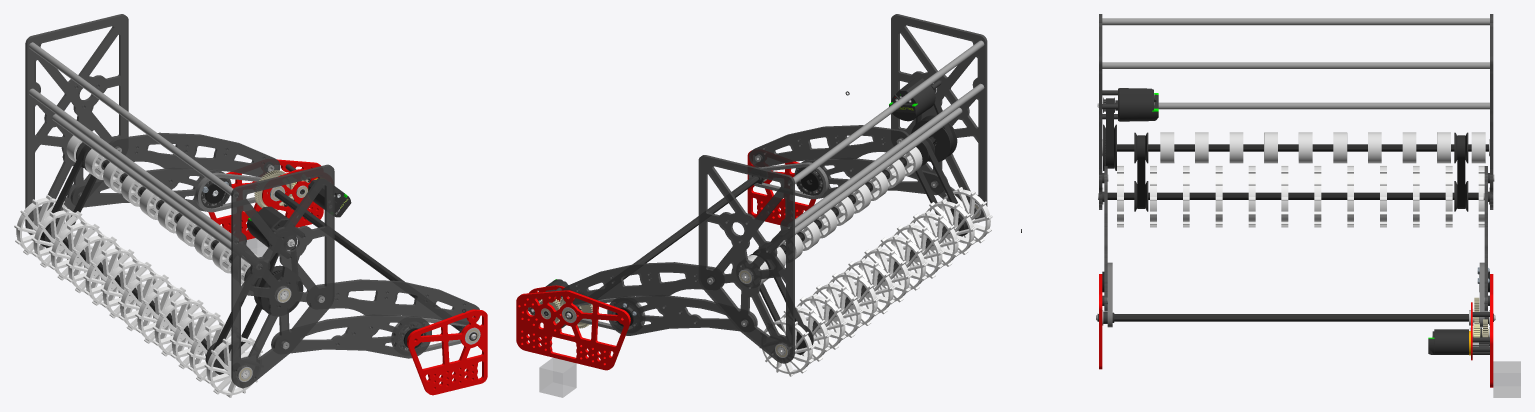
3 views of the same model, side by side, from view 1: azimuth 30°, elevation 25°; view 2: azimuth 150°, elevation 25°; view 3: azimuth 270°, elevation 25° (orthographic). The views are drawn at different scales.
Parts seen in each view (by area): view 1: Link_3 (×2), 4.5" Compliant Intake Wheel (30A, 1/2" Wide, 1/2" Hex Bore) (×12), Link_2 (×2), Shaft (×4), Link_1 (×2), Far Side Frame Mount, am-3949 2.25N OverMolded 500Hex Compliant Wheel V6 (×8), 90T 5M 15mm Wide Belt (×2), Motor Side Frame Mount, Kraken X60 Brushless Motor, Motor Plate Mount, 60L #25 Chain (+3 smaller); view 2: Link_3 (×2), 4.5" Compliant Intake Wheel (30A, 1/2" Wide, 1/2" Hex Bore) (×12), Link_2 (×2), Shaft (×4), Motor Side Frame Mount, Link_1 (×2), 90T 5M 15mm Wide Belt (×2), Origin Cube, Far Side Frame Mount, Kraken X60 Brushless Motor, 46t Custom HTD 5mm Pulley (0.6" Wide, 1/2" Hex Bore w/ TTB I, 60L #25 Chain; view 3: Shaft (×4), 4.5" Compliant Intake Wheel (30A, 1/2" Wide, 1/2" Hex Bore) (×11), am-3949 2.25N OverMolded 500Hex Compliant Wheel V6 (×10), 1/2" Rounded Hex (28.5" L, 13.75mm OD, 7075) (×2), Link_3 (×2), Kraken X60 Brushless Motor, 90T 5M 15mm Wide Belt (×2), Link_2 (×2), Kraken X44 Brushless Motor, Origin Cube, 70T 5M 15mm Wide Belt, Motor Side Frame Mount.
Part boxes in pixels (bbox=[...]): Link_3 (×2): bbox=[25, 14, 334, 387]; 4.5" Compliant Intake Wheel (30A, 1/2" Wide, 1/2" Hex Bore) (×12): bbox=[14, 195, 262, 397]; Link_2 (×2): bbox=[109, 132, 480, 325]; Shaft (×4): bbox=[29, 42, 477, 340]; Link_1 (×2): bbox=[70, 168, 431, 358]; Far Side Frame Mount: bbox=[407, 309, 487, 395]; am-3949 2.25N OverMolded 500Hex Compliant Wheel V6 (×8): bbox=[85, 149, 231, 273]; 90T 5M 15mm Wide Belt (×2): bbox=[41, 144, 261, 356]; Motor Side Frame Mount: bbox=[208, 159, 323, 239]; Kraken X60 Brushless Motor: bbox=[247, 206, 294, 247]; Motor Plate Mount: bbox=[262, 169, 318, 211]; 60L #25 Chain: bbox=[195, 172, 261, 212]; Link_3 (×2): bbox=[698, 14, 987, 363]; 4.5" Compliant Intake Wheel (30A, 1/2" Wide, 1/2" Hex Bore) (×12): bbox=[759, 187, 992, 376]; Link_2 (×2): bbox=[562, 125, 909, 304]; Shaft (×4): bbox=[565, 40, 984, 319]; Motor Side Frame Mount: bbox=[516, 290, 630, 370]; Link_1 (×2): bbox=[607, 158, 944, 335]; 90T 5M 15mm Wide Belt (×2): bbox=[756, 140, 967, 337]; Origin Cube: bbox=[539, 358, 576, 397]; Far Side Frame Mount: bbox=[747, 150, 816, 224]; Kraken X60 Brushless Motor: bbox=[889, 78, 935, 121]; 46t Custom HTD 5mm Pulley (0.6" Wide, 1/2" Hex Bore w/ TTB I: bbox=[911, 115, 957, 162]; 60L #25 Chain: bbox=[748, 162, 828, 199]; Shaft (×4): bbox=[1096, 18, 1495, 321]; 4.5" Compliant Intake Wheel (30A, 1/2" Wide, 1/2" Hex Bore) (×11): bbox=[1117, 165, 1452, 227]; am-3949 2.25N OverMolded 500Hex Compliant Wheel V6 (×10): bbox=[1160, 132, 1485, 163]; 1/2" Rounded Hex (28.5" L, 13.75mm OD, 7075) (×2): bbox=[1107, 144, 1488, 199]; Link_3 (×2): bbox=[1099, 14, 1493, 209]; Kraken X60 Brushless Motor: bbox=[1097, 88, 1158, 121]; 90T 5M 15mm Wide Belt (×2): bbox=[1137, 135, 1465, 208]; Link_2 (×2): bbox=[1104, 166, 1487, 311]; Kraken X44 Brushless Motor: bbox=[1428, 329, 1478, 354]; Origin Cube: bbox=[1493, 361, 1520, 397]; 70T 5M 15mm Wide Belt: bbox=[1106, 98, 1113, 168]; Motor Side Frame Mount: bbox=[1490, 274, 1493, 387].
Size of the model in its own units: 0.6275 by 0.5411 by 0.9178.
